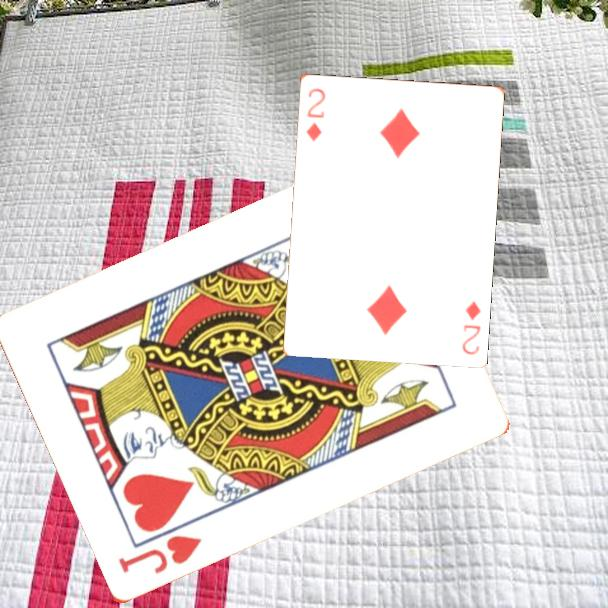d02: (458, 297, 484, 357), (303, 84, 328, 144)
h11: (114, 532, 205, 578)
